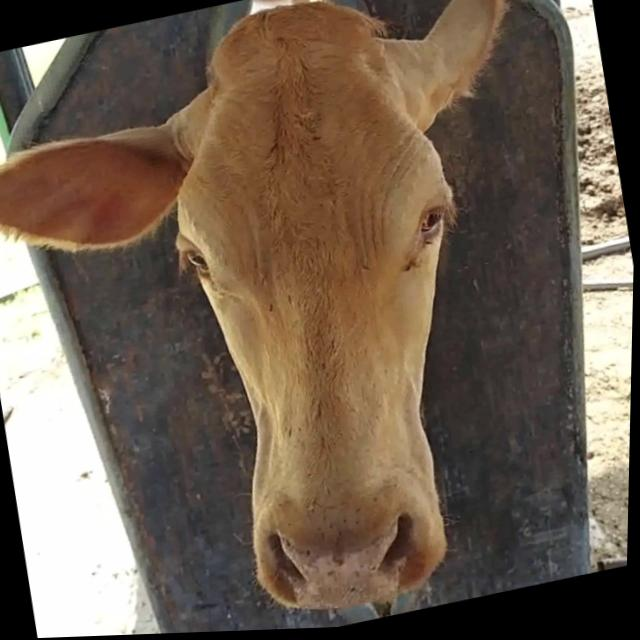cowFace: (126, 0, 519, 634)
